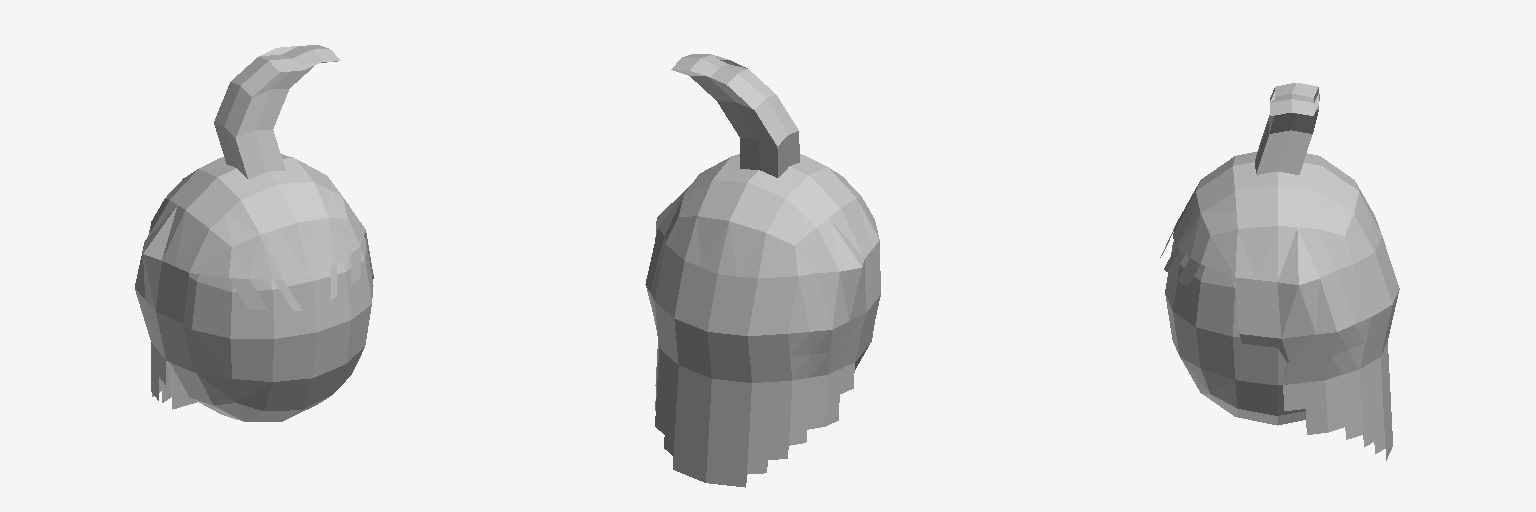
Rendered from kao.obj.
3 views of the same model, side by side, from view 1: azimuth 30°, elevation 25°; view 2: azimuth 150°, elevation 25°; view 3: azimuth 270°, elevation 25° (orthographic).
Parts seen in each view (by area): view 1: 立方体.001; view 2: 立方体.001; view 3: 立方体.001.
Part boxes in pixels (x1,y1,x2,y2): 立方体.001: (135, 45, 373, 421); 立方体.001: (645, 54, 880, 487); 立方体.001: (1160, 83, 1399, 460).
Bounding box in the file's own units: 2.98 × 5.13 × 2.98.